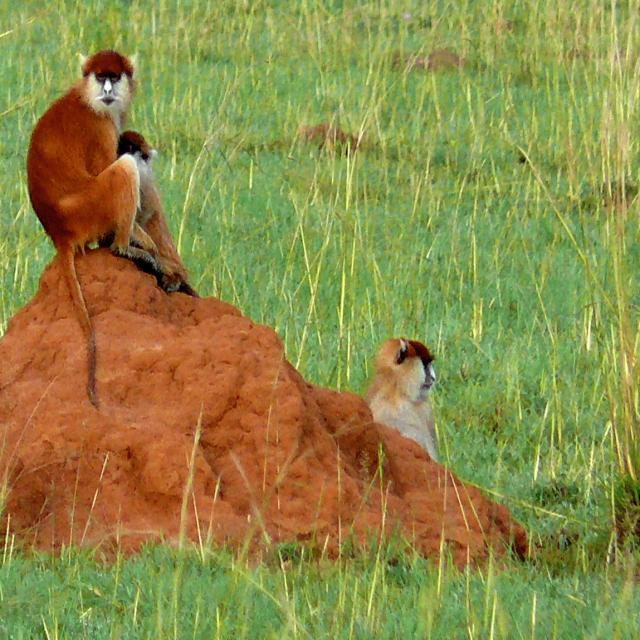not_pig: (23, 47, 200, 410), (364, 333, 442, 461)
